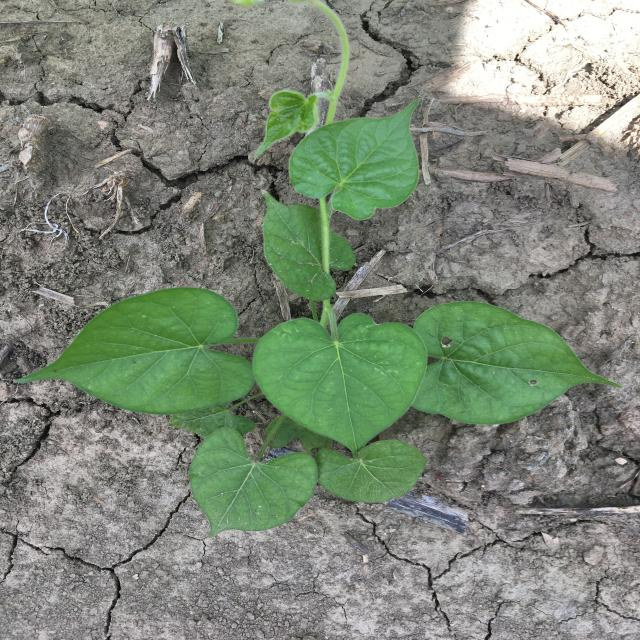MorningGlory: (14, 0, 624, 537)
